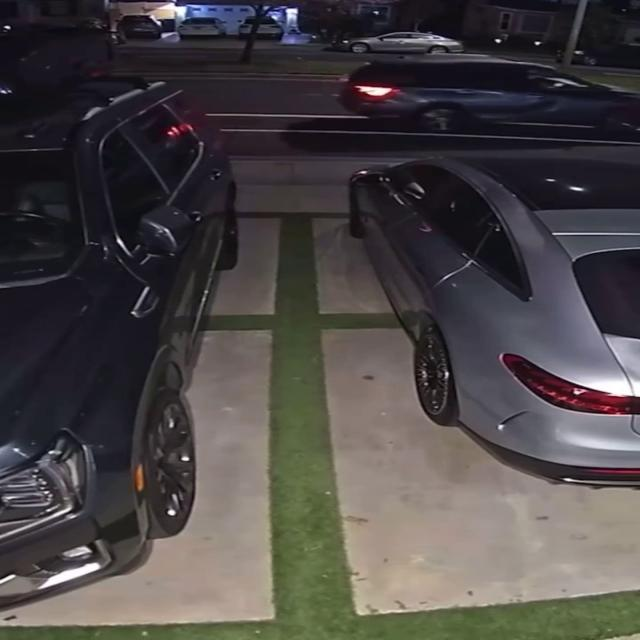Theft - Alert: (349, 151, 639, 490), (339, 58, 639, 131)
